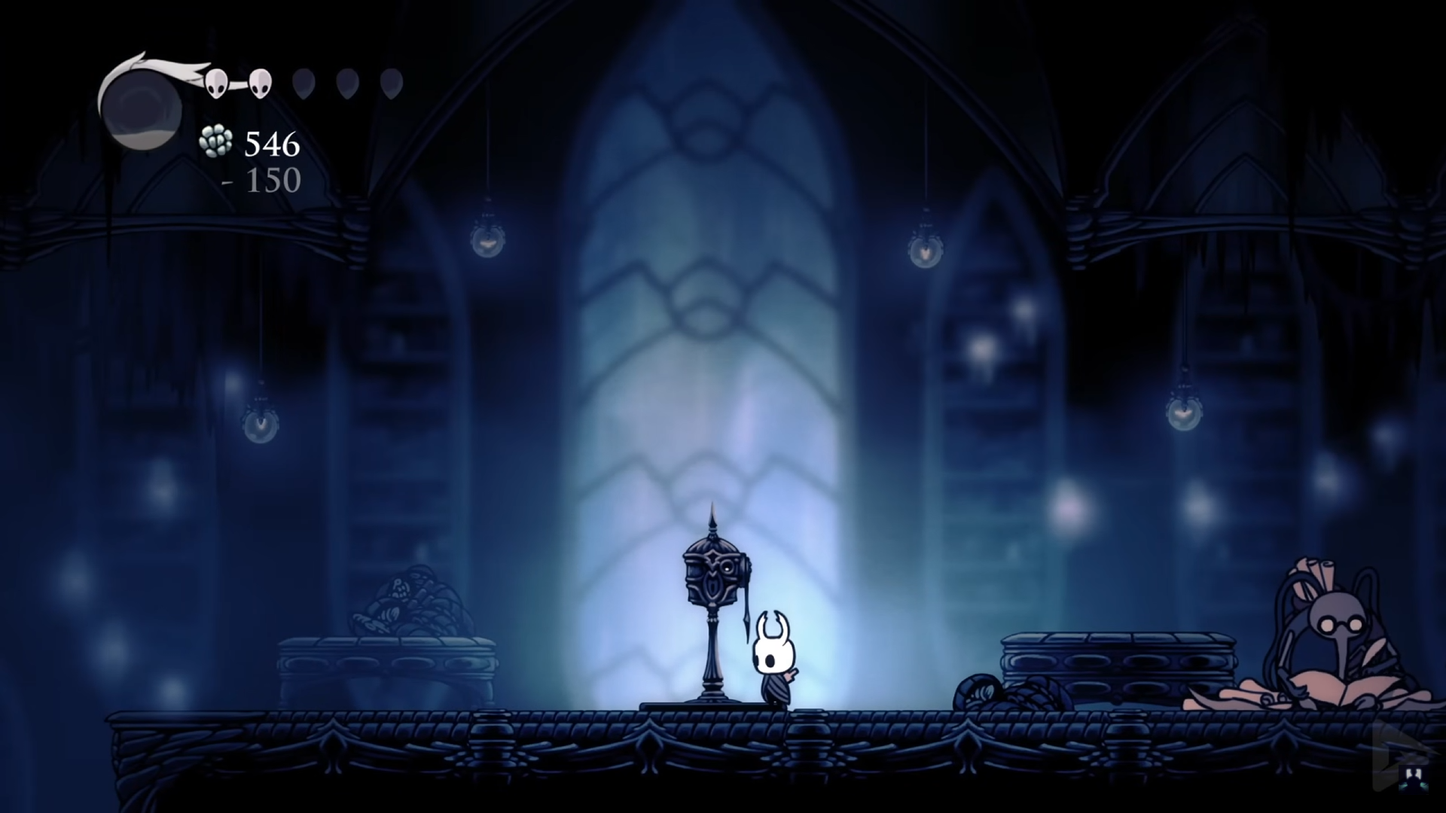HK: (745, 608, 806, 705)
